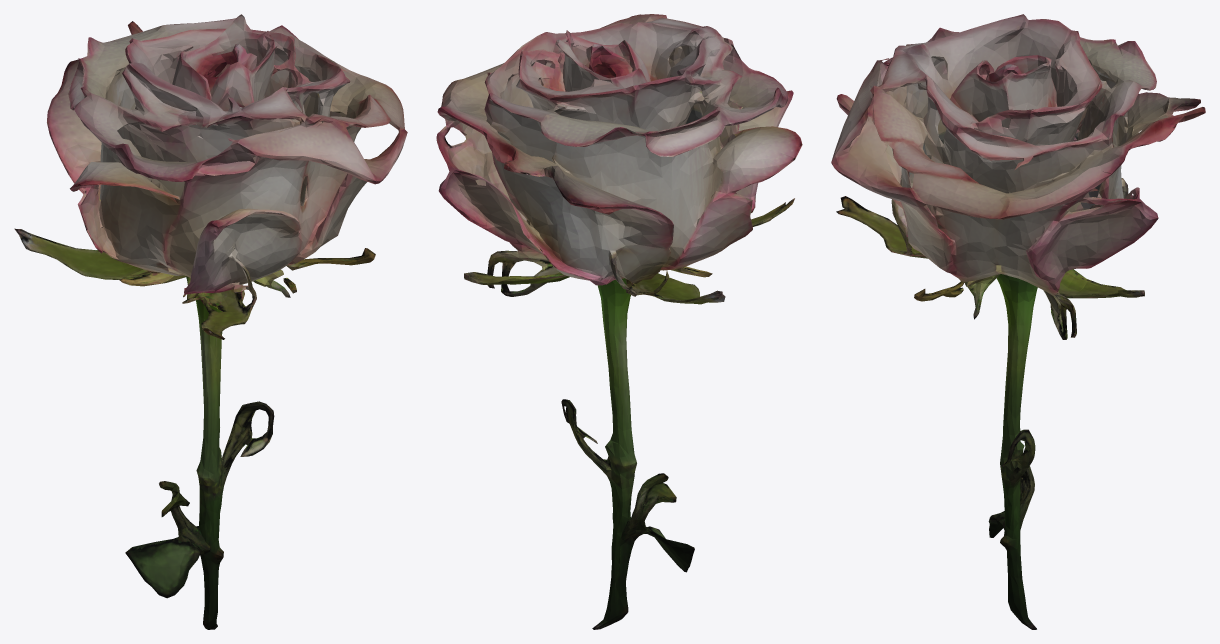
3 renders of one model, left to right at view 1: azimuth 30°, elevation 25°; view 2: azimuth 150°, elevation 25°; view 3: azimuth 270°, elevation 25°, orthographic. The views are drawn at different scales.
Parts seen in each view (by area): view 1: world; view 2: world; view 3: world.
Boxes of the visible parts, x1=… form: world: x1=14, y1=14, x2=407, y2=629; world: x1=436, y1=14, x2=802, y2=629; world: x1=831, y1=14, x2=1205, y2=629.
Bounding box in the file's own units: 0.5726 × 0.9669 × 0.5638.
Materials: 1 (1 with a texture image).
